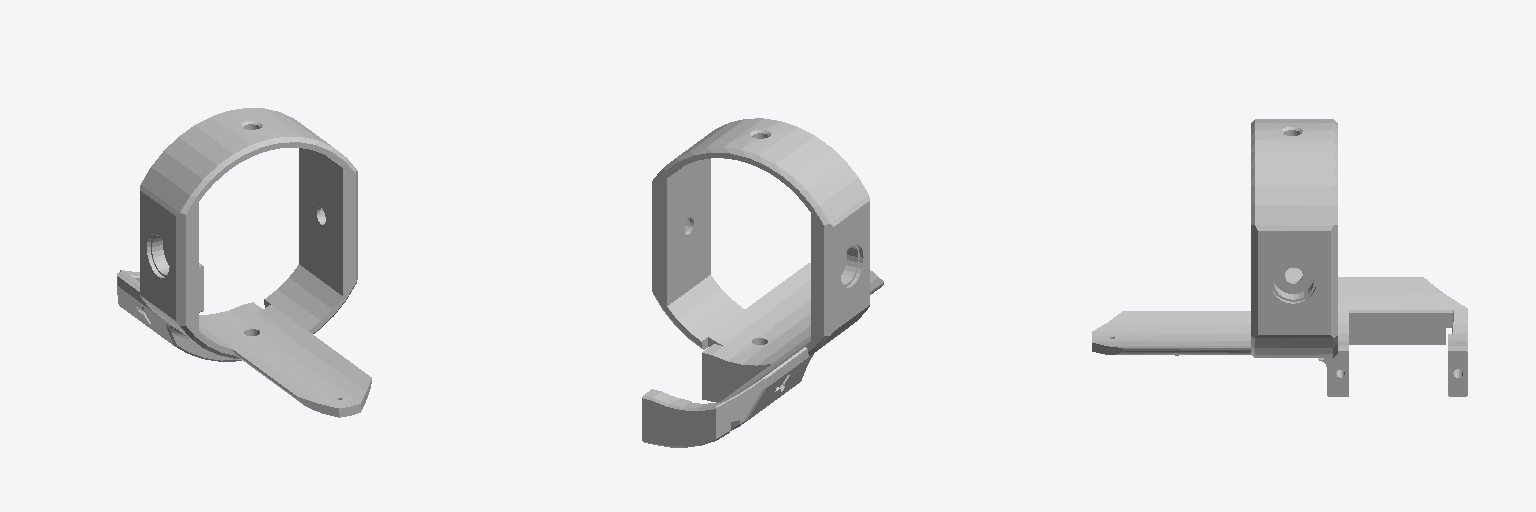
Rendered from Inner Gimbal.obj.
The picture shows the model from 3 angles: view 1: azimuth 30°, elevation 25°; view 2: azimuth 150°, elevation 25°; view 3: azimuth 270°, elevation 25°; orthographic projection.
Visible parts, largest first — view 1: Body1; view 2: Body1; view 3: Body1.
Part boxes in pixels (x1,y1,x2,y2): Body1: (117, 108, 371, 417); Body1: (642, 118, 883, 447); Body1: (1092, 119, 1467, 396).
Size of the model in its own units: 4.82 by 6.38 by 8.64.